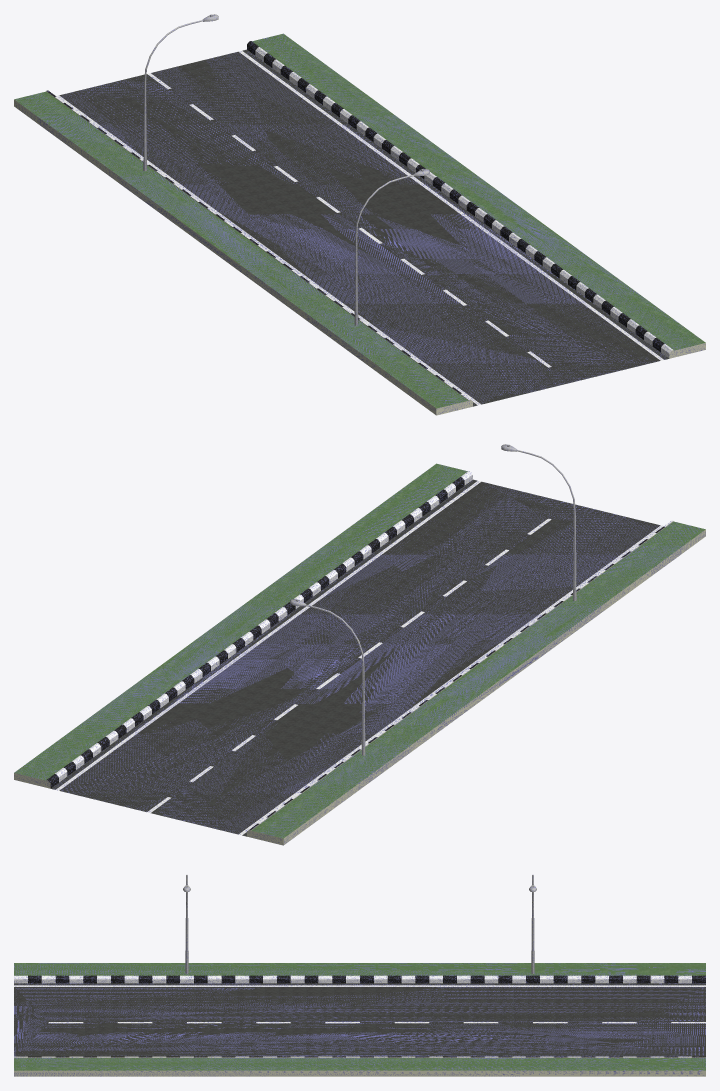
3 views of the same model, one above another, from view 1: azimuth 30°, elevation 25°; view 2: azimuth 150°, elevation 25°; view 3: azimuth 270°, elevation 25° (orthographic). The views are drawn at different scales.
Parts seen in each view (by area): view 1: SketchUp (×7); view 2: SketchUp (×7); view 3: SketchUp (×6).
Part boxes in pixels (x1=…): SketchUp (×7): x1=14, y1=33, x2=705, y2=415; SketchUp (×7): x1=14, y1=463, x2=705, y2=845; SketchUp (×6): x1=14, y1=963, x2=705, y2=1076.
Size of the model in its own units: 442 by 1200 by 229.
8 materials, 2 textured.
